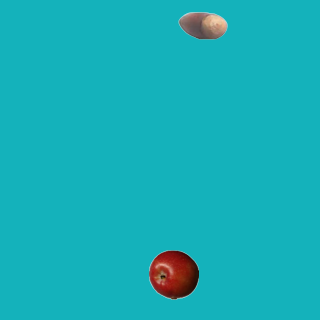Apple Braeburn: (148, 249, 198, 299)
Hazelnut: (177, 0, 227, 50)
